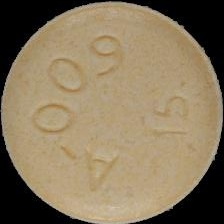49999-817: (0, 0, 224, 224)
